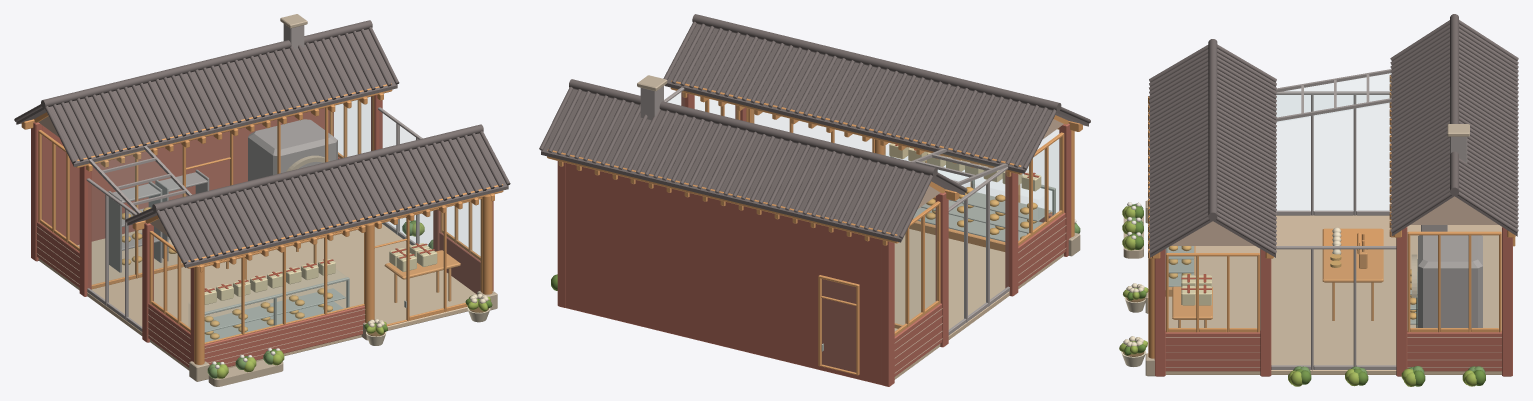
The model's file is 11-B-d96aec0c9519.glb.
The picture shows the model from 3 angles, left to right: view 1: azimuth 30°, elevation 25°; view 2: azimuth 150°, elevation 25°; view 3: azimuth 270°, elevation 25°; orthographic projection. The views are drawn at different scales.
Parts seen in each view (by area): view 1: R 连续瓦屋面, R 筒瓦, S 店内楼面, A 后墙, R 屋脊, A 红砖山墙角柱, A 侧墙窗下, A 前窗下砖墙, A 侧木窗, I 烤炉实体, A 前廊木柱, I 礼盒 (+22 smaller); view 2: A 后墙, R 连续瓦屋面, R 筒瓦, A 红砖山墙角柱, R 屋脊, S 店内楼面, A 侧墙窗下, A 侧木窗, R 木檐枋, I 展柜托盘, A 侧连廊玻璃, I 礼盒 (+8 smaller); view 3: R 筒瓦, S 店内楼面, A 侧墙窗下, A 红砖山墙角柱, I 烤炉实体, A 侧木窗, A 侧连廊玻璃, I 桌面, R 屋脊, A 山墙上段, L 地被与灌丛, D 山墙砖缝 (+10 smaller).
Boxes of the visible parts, x1,y1,x2,y2 form: R 连续瓦屋面: [16, 29, 508, 267]; R 筒瓦: [14, 27, 510, 264]; S 店内楼面: [38, 224, 476, 370]; A 后墙: [43, 108, 324, 245]; R 屋脊: [41, 20, 483, 212]; A 红砖山墙角柱: [31, 95, 493, 362]; A 侧墙窗下: [37, 157, 480, 367]; A 前窗下砖墙: [204, 305, 364, 366]; A 侧木窗: [38, 99, 480, 332]; I 烤炉实体: [248, 119, 337, 180]; A 前廊木柱: [194, 195, 492, 364]; I 礼盒: [204, 243, 437, 304]; A 后墙: [565, 163, 881, 384]; R 连续瓦屋面: [541, 24, 1088, 242]; R 筒瓦: [539, 21, 1090, 238]; A 红砖山墙角柱: [557, 92, 1071, 386]; R 屋脊: [569, 14, 1061, 176]; S 店内楼面: [894, 229, 1063, 379]; A 侧墙窗下: [894, 212, 1065, 376]; A 侧木窗: [705, 99, 1064, 336]; R 木檐枋: [547, 80, 1082, 243]; I 展柜托盘: [912, 192, 1051, 241]; A 侧连廊玻璃: [664, 87, 1009, 335]; I 礼盒: [889, 143, 1041, 191]; R 筒瓦: [1149, 20, 1518, 254]; S 店内楼面: [1165, 215, 1501, 374]; A 侧墙窗下: [1165, 331, 1501, 371]; A 红砖山墙角柱: [1154, 227, 1512, 376]; I 烤炉实体: [1418, 235, 1482, 328]; A 侧木窗: [1166, 231, 1501, 332]; A 侧连廊玻璃: [1271, 91, 1396, 370]; I 桌面: [1172, 228, 1383, 319]; R 屋脊: [1208, 14, 1458, 220]; A 山墙上段: [1171, 196, 1498, 245]; L 地被与灌丛: [1122, 204, 1485, 386]; D 山墙砖缝: [1165, 337, 1501, 367].
Bounding box in the file's own units: 20.69 × 11.76 × 19.69.
